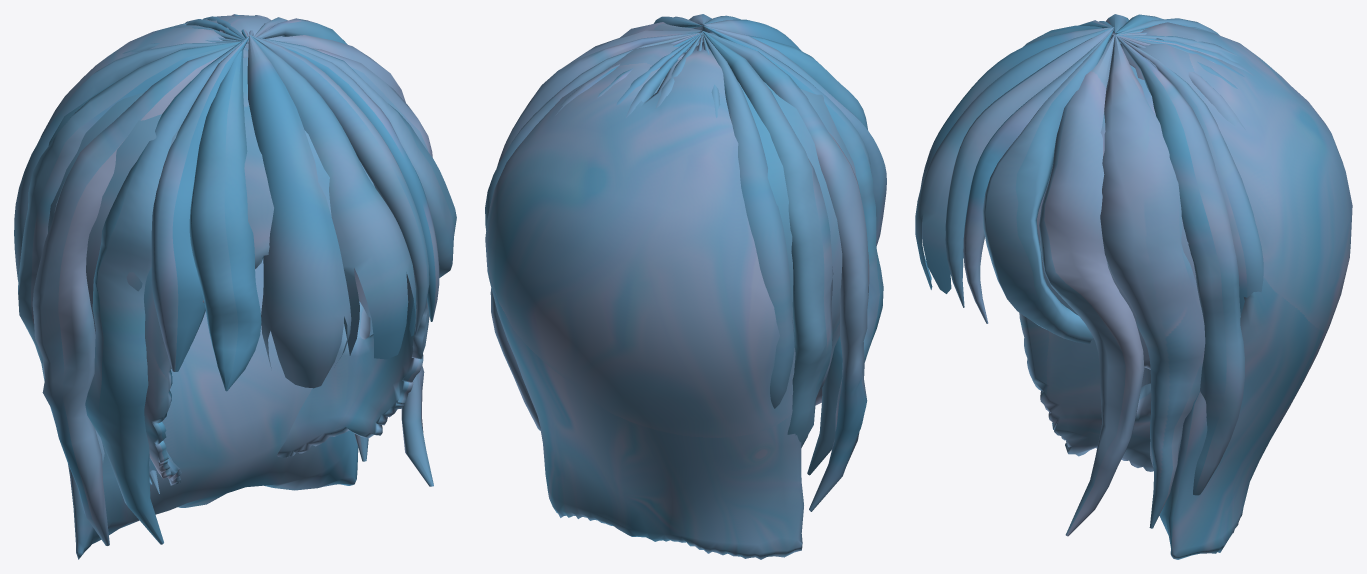
File: WindyHair.fbx
The picture shows the model from 3 angles, left to right: view 1: azimuth 30°, elevation 25°; view 2: azimuth 150°, elevation 25°; view 3: azimuth 270°, elevation 25°; orthographic projection. The views are drawn at different scales.
Parts seen in each view (by area): view 1: innerHair; view 2: innerHair; view 3: innerHair.
Part boxes in pixels (bbox=[...]): innerHair: bbox=[14, 14, 456, 559]; innerHair: bbox=[485, 14, 886, 559]; innerHair: bbox=[915, 14, 1352, 559].
Bounding box in the file's own units: 0.2183 × 0.2886 × 0.2376.
Materials: 1 (1 with a texture image).
